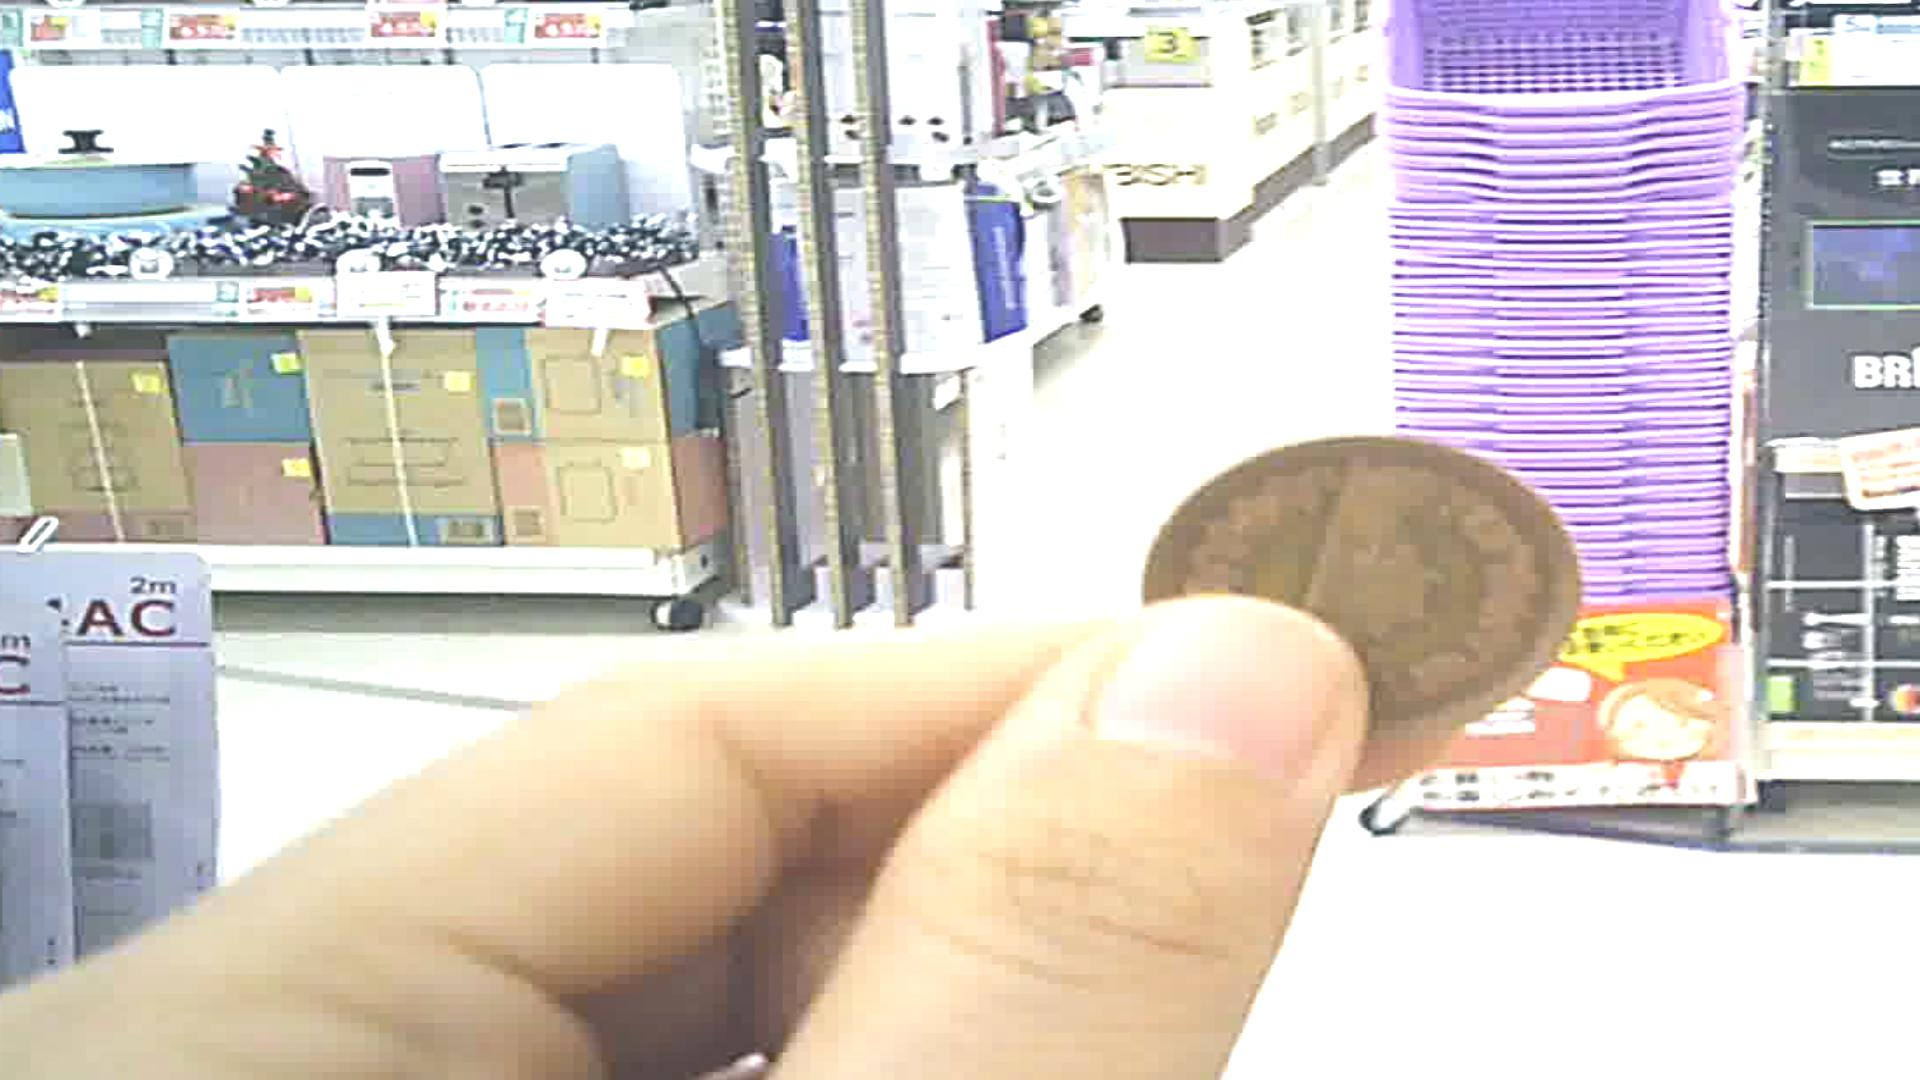10 Yen: (1126, 446, 1573, 724)
